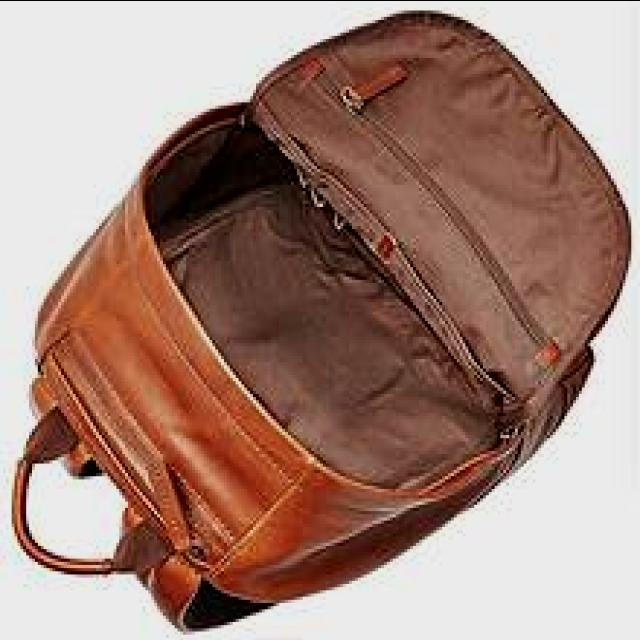backpack: (10, 10, 632, 638)
